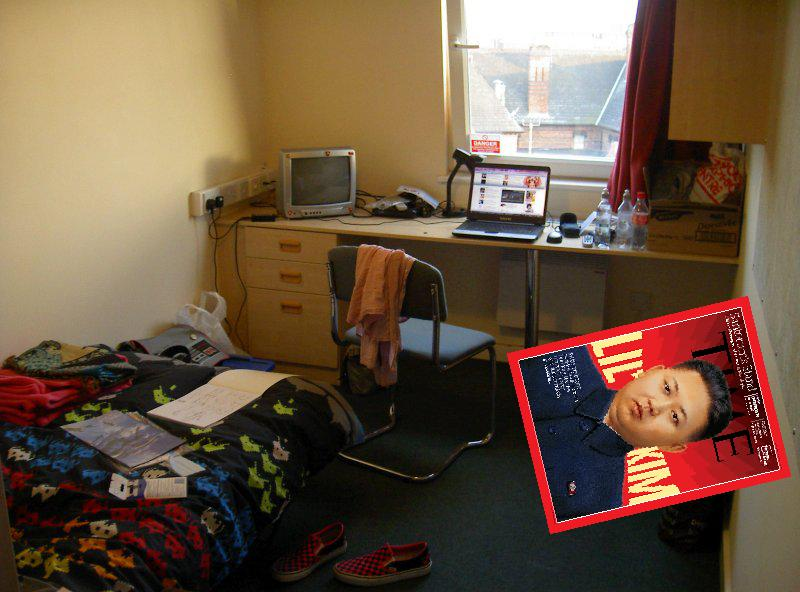times: (502, 291, 795, 542)
